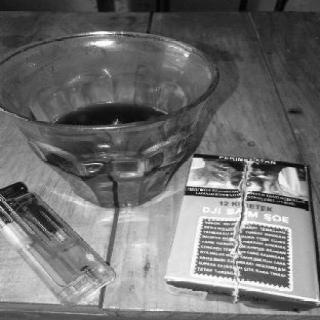objects: (165, 154, 319, 313)
